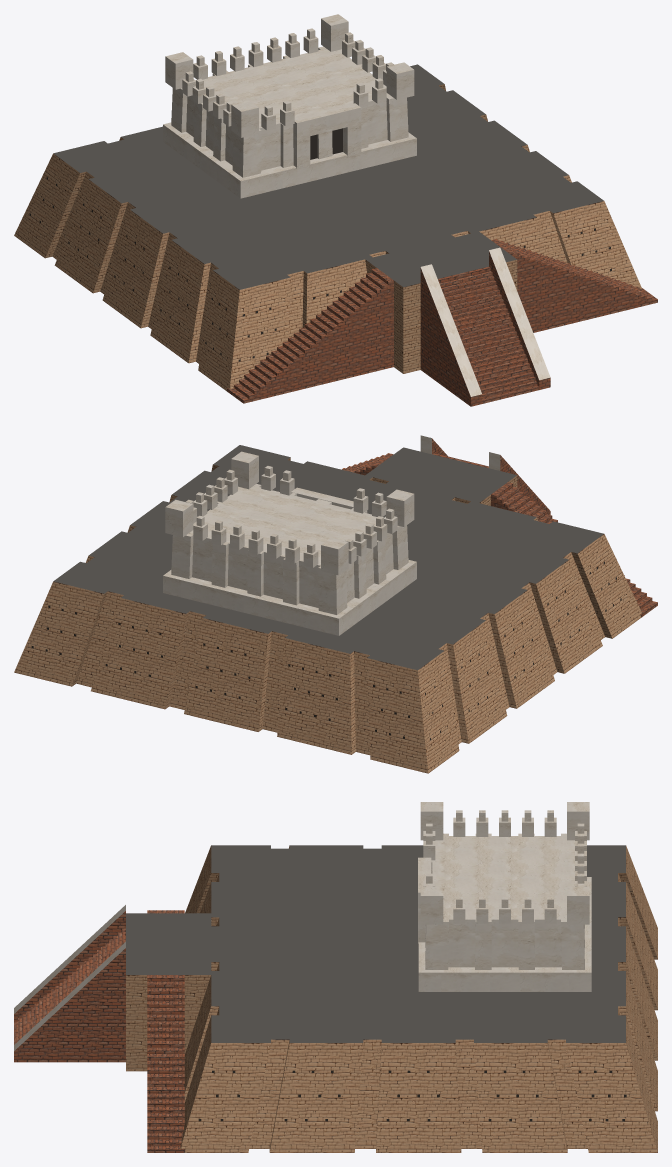
The model's file is ziggurat_eridu.glb.
3 renders of one model, top to bottom at view 1: azimuth 30°, elevation 25°; view 2: azimuth 150°, elevation 25°; view 3: azimuth 270°, elevation 25°, orthographic. The views are drawn at different scales.
Visible parts, largest first — view 1: ziggurat_eridu; view 2: ziggurat_eridu; view 3: ziggurat_eridu.
Part boxes in pixels (bbox=[...]): ziggurat_eridu: bbox=[14, 14, 657, 406]; ziggurat_eridu: bbox=[14, 435, 657, 773]; ziggurat_eridu: bbox=[14, 802, 657, 1152].
Size of the model in its own units: 40 by 15.9 by 48.43.
Materials: 5 (3 with a texture image).
